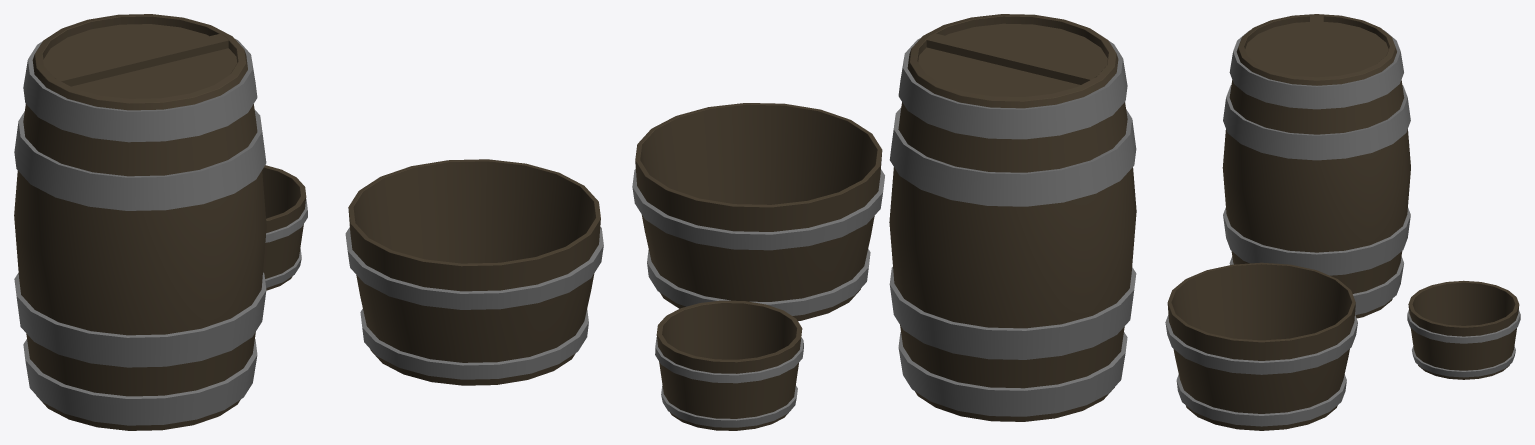
Rendered from Barrels.fbx.
3 views of the same model, side by side, from view 1: azimuth 30°, elevation 25°; view 2: azimuth 150°, elevation 25°; view 3: azimuth 270°, elevation 25° (orthographic). The views are drawn at different scales.
Visible parts, largest first — view 1: polySurface2, polySurface5, polySurface3, pCube2; view 2: polySurface2, polySurface5, pCube2, polySurface3; view 3: polySurface2, polySurface5, pCube2, polySurface3.
Part boxes in pixels (x1,y1,x2,y2): polySurface2: (14,14,266,430); polySurface5: (345,159,603,385); polySurface3: (43,24,237,98); pCube2: (262,165,307,290); polySurface2: (889,14,1136,421); polySurface5: (632,103,884,321); pCube2: (655,300,803,430); polySurface3: (918,23,1107,96); polySurface2: (1222,14,1410,318); polySurface5: (1165,262,1357,430); pCube2: (1407,280,1520,379); polySurface3: (1245,16,1388,77).
Size of the model in its own units: 5.54 by 3.36 by 4.42.
